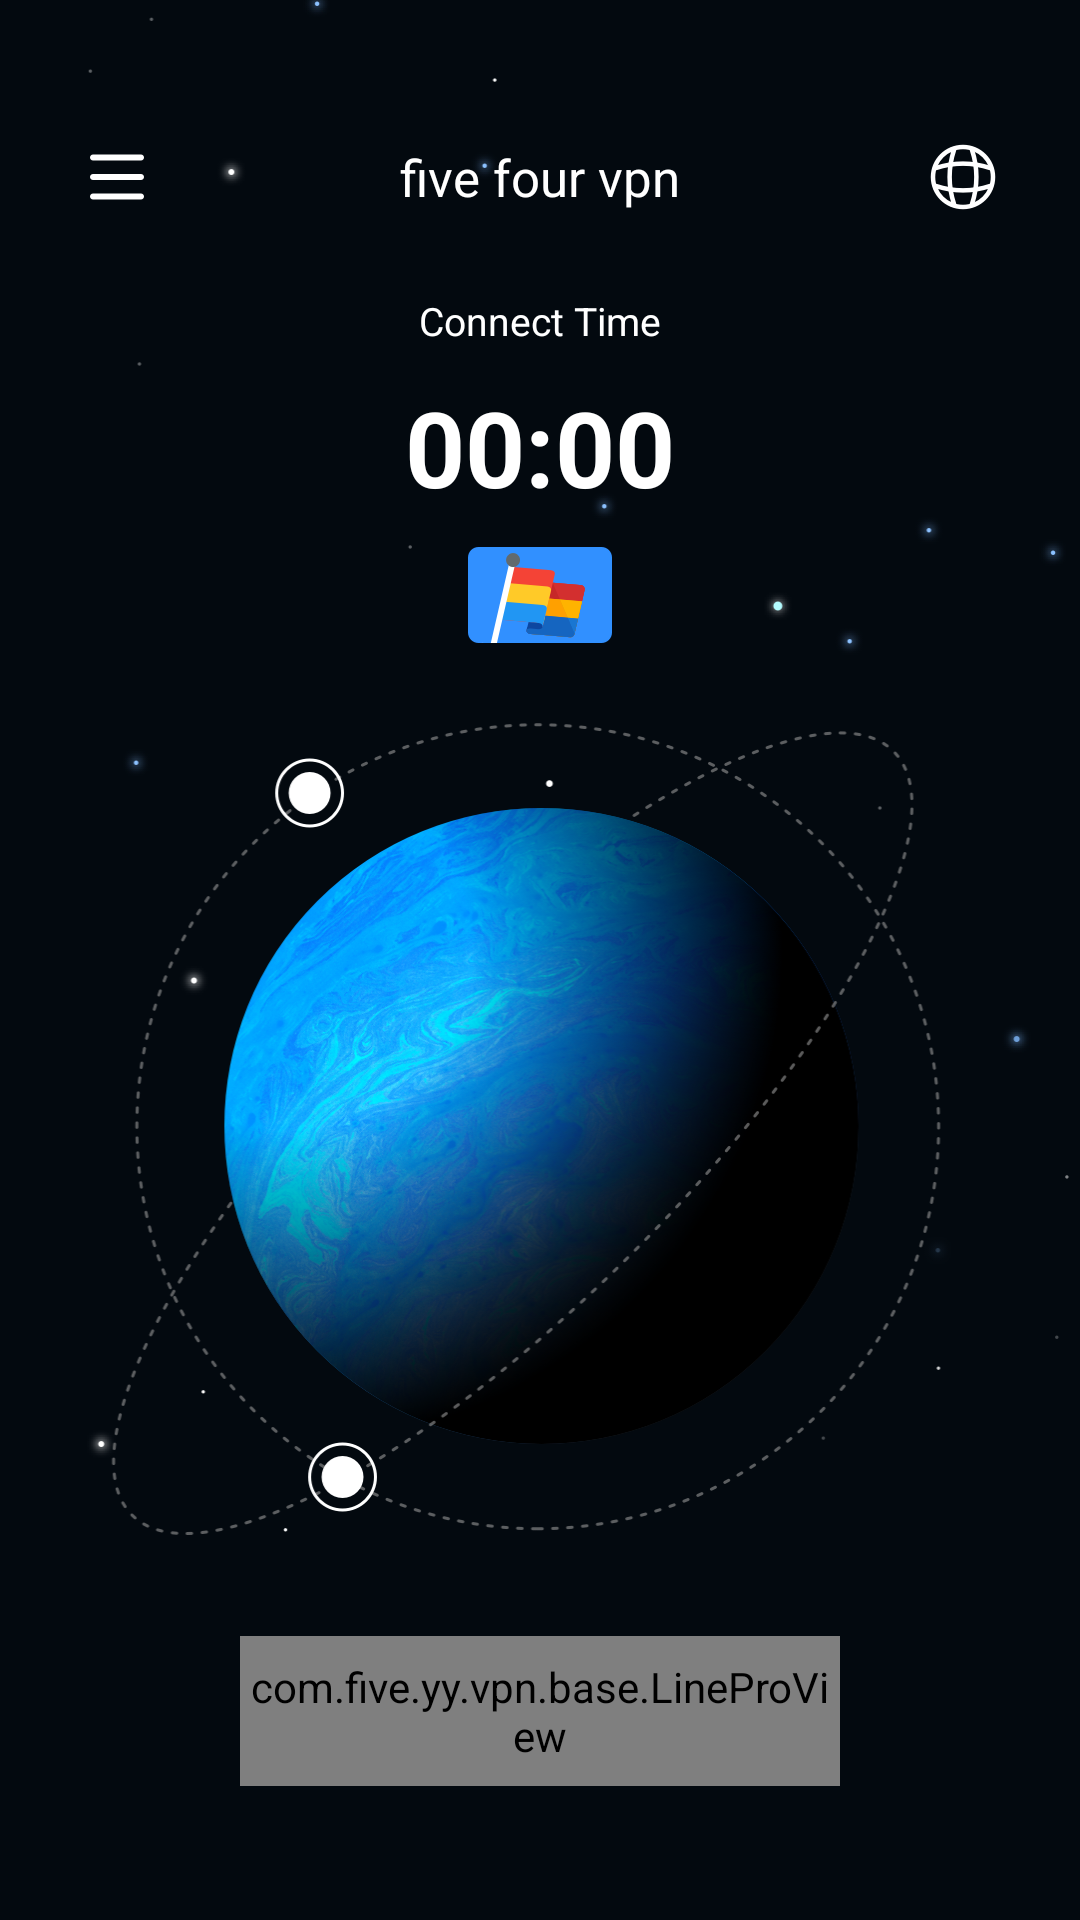

Icons on this 1080*1920 Android screen, each with the point to tap as point (x, y):
home server src: point (963, 177)
home setting src: point (117, 177)
